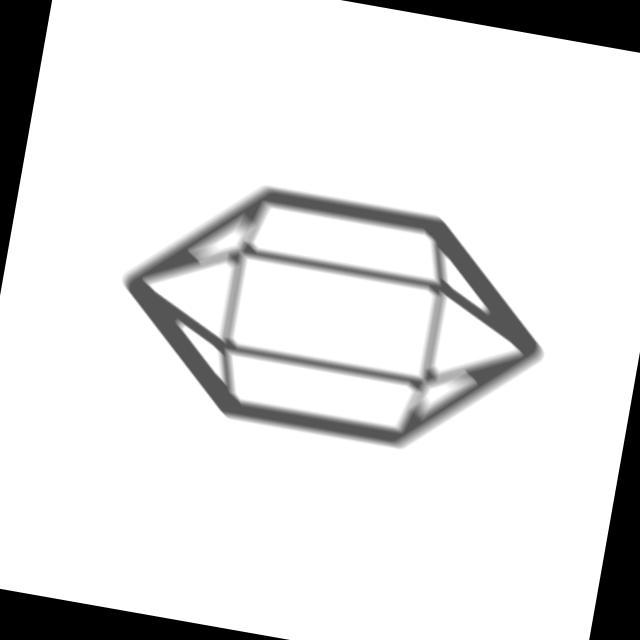crystal: (96, 153, 572, 483)
